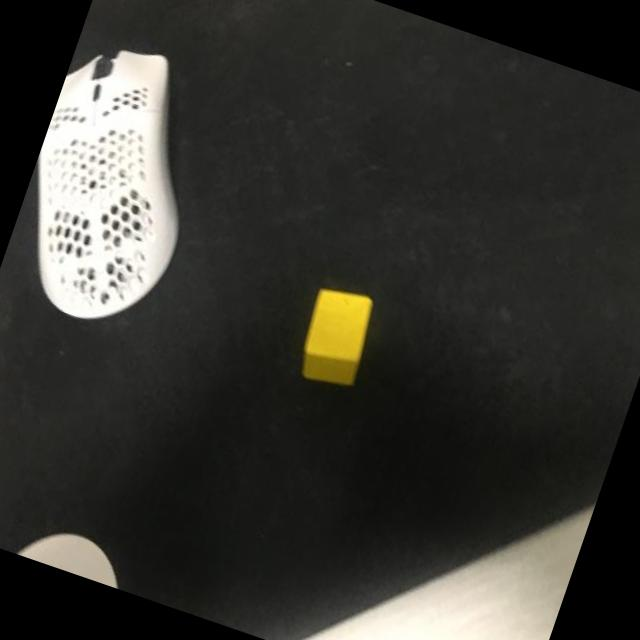yellow: (288, 280, 382, 394)
